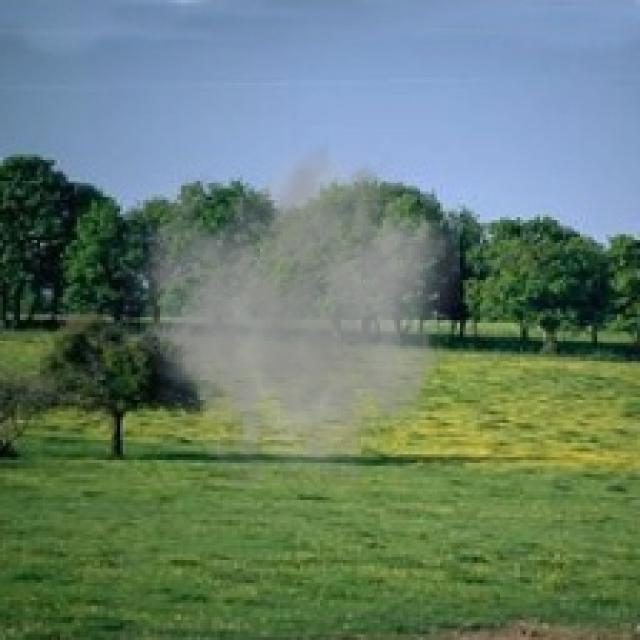smoke: (114, 137, 460, 497)
